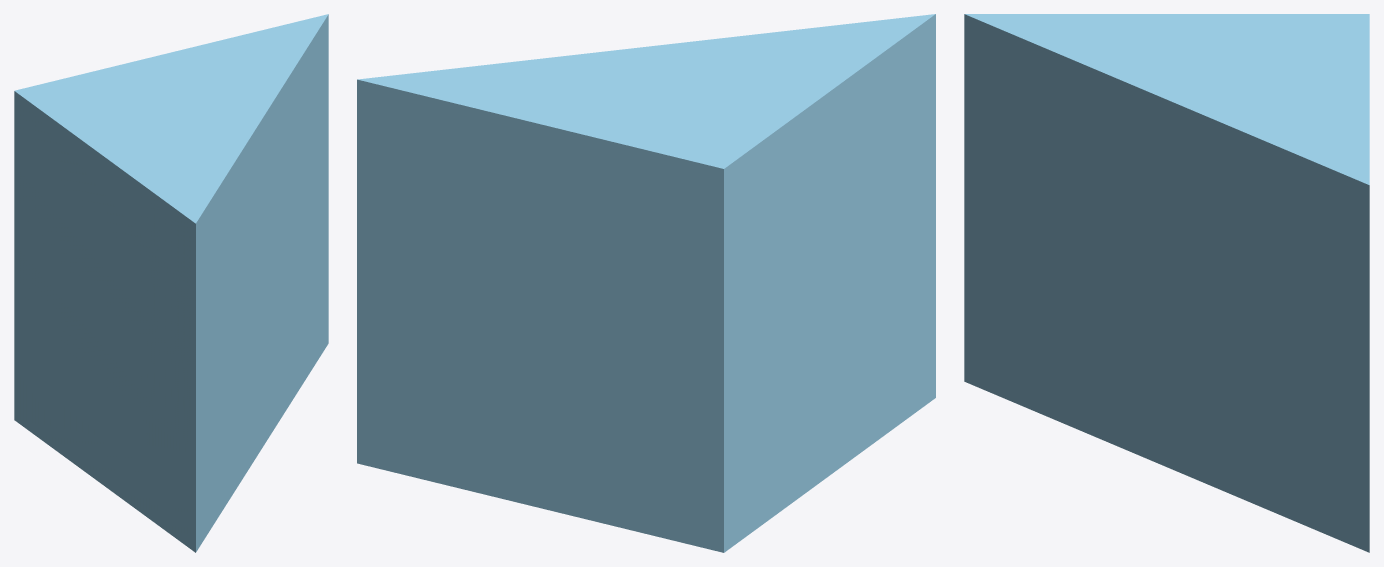
Rendered from Spawn_VerticalSlope.glb.
3 views of the same model, side by side, from view 1: azimuth 30°, elevation 25°; view 2: azimuth 150°, elevation 25°; view 3: azimuth 270°, elevation 25° (orthographic). The views are drawn at different scales.
Visible parts, largest first — view 1: Spawn_VerticalSlope_body; view 2: Spawn_VerticalSlope_body; view 3: Spawn_VerticalSlope_body.
Boxes of the visible parts, <box> form: Spawn_VerticalSlope_body: <box>14,14,328,552</box>; Spawn_VerticalSlope_body: <box>357,14,935,552</box>; Spawn_VerticalSlope_body: <box>964,14,1369,552</box>.
Size of the model in its own units: 1 by 1 by 1.
